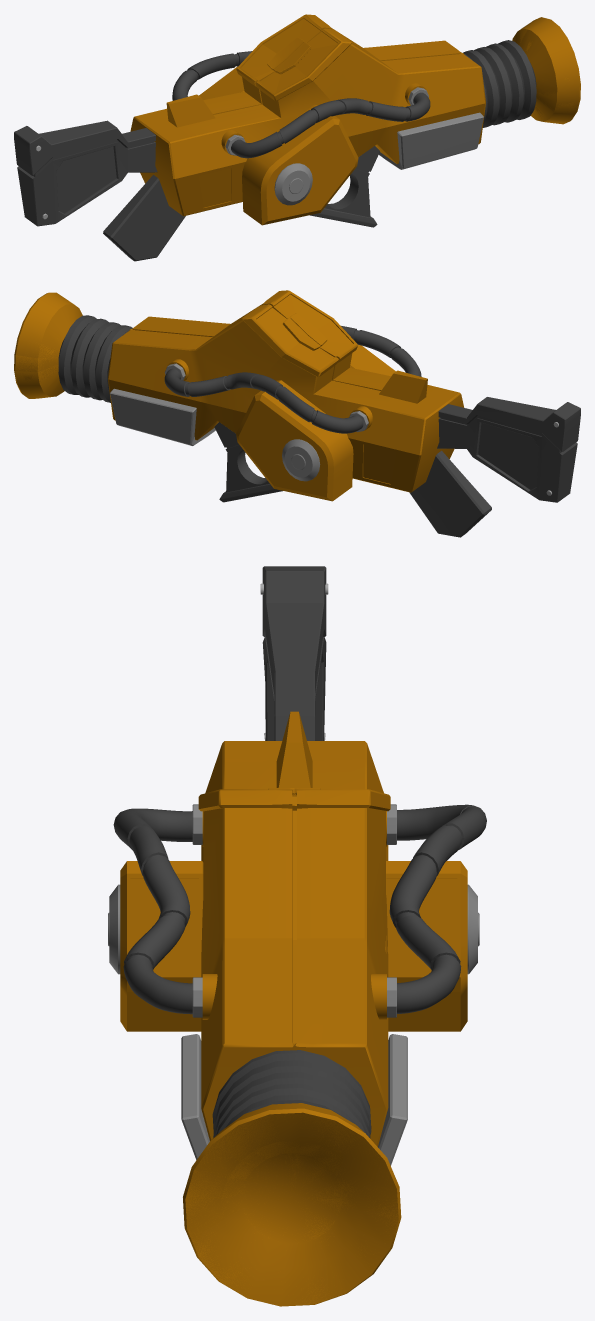
Rendered from Weapon_StandardFinish.fbx.
3 renders of one model, top to bottom at view 1: azimuth 30°, elevation 25°; view 2: azimuth 150°, elevation 25°; view 3: azimuth 270°, elevation 25°, orthographic. The views are drawn at different scales.
Parts seen in each view (by area): view 1: polySurface2, pCube8, pCylinder1 (×2), pCube7, pCube9, sweep2, polySurface3, polySurface1, sweep3, pCylinder4, pCube10; view 2: polySurface2, pCube8, pCylinder1 (×2), pCube10, pCube9, sweep3, polySurface3, polySurface1, pCylinder16, sweep2, pCube7; view 3: polySurface2, pCylinder1 (×2), pCube8, sweep3, sweep2, pCube7, pCube10, polySurface3, pCylinder4, pCylinder16.
Part boxes in pixels (x1=…): polySurface2: x1=130, y1=14, x2=485, y2=216; pCube8: x1=14, y1=120, x2=157, y2=226; pCylinder1 (×2): x1=463, y1=17, x2=580, y2=127; pCube7: x1=242, y1=105, x2=358, y2=225; pCube9: x1=103, y1=175, x2=185, y2=261; sweep2: x1=231, y1=92, x2=430, y2=158; polySurface3: x1=379, y1=112, x2=483, y2=169; polySurface1: x1=310, y1=146, x2=379, y2=227; sweep3: x1=172, y1=51, x2=252, y2=100; pCylinder4: x1=274, y1=163, x2=312, y2=205; pCube10: x1=199, y1=66, x2=244, y2=100; polySurface2: x1=108, y1=290, x2=464, y2=492; pCube8: x1=437, y1=397, x2=580, y2=502; pCylinder1 (×2): x1=14, y1=292, x2=132, y2=402; pCube10: x1=236, y1=380, x2=353, y2=501; pCube9: x1=409, y1=450, x2=491, y2=537; sweep3: x1=164, y1=368, x2=363, y2=433; polySurface3: x1=110, y1=388, x2=215, y2=445; polySurface1: x1=214, y1=422, x2=282, y2=502; pCylinder16: x1=282, y1=439, x2=320, y2=481; sweep2: x1=341, y1=326, x2=421, y2=376; pCube7: x1=350, y1=344, x2=395, y2=376; polySurface2: x1=198, y1=711, x2=390, y2=1146; pCylinder1 (×2): x1=183, y1=1050, x2=401, y2=1306; pCube8: x1=262, y1=566, x2=326, y2=740; sweep3: x1=389, y1=804, x2=486, y2=1013; sweep2: x1=113, y1=808, x2=192, y2=1014; pCube7: x1=120, y1=861, x2=203, y2=1031; pCube10: x1=385, y1=861, x2=467, y2=1031; polySurface3: x1=181, y1=1034, x2=407, y2=1165; pCylinder4: x1=108, y1=884, x2=120, y2=974; pCylinder16: x1=467, y1=884, x2=479, y2=974.
Size of the model in its own units: 55.84 by 20.65 by 17.23.
